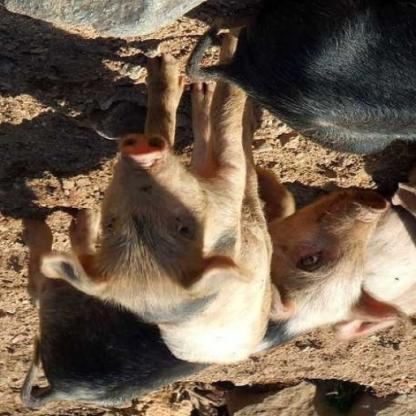boar: (30, 177, 398, 416), (73, 90, 297, 382)
